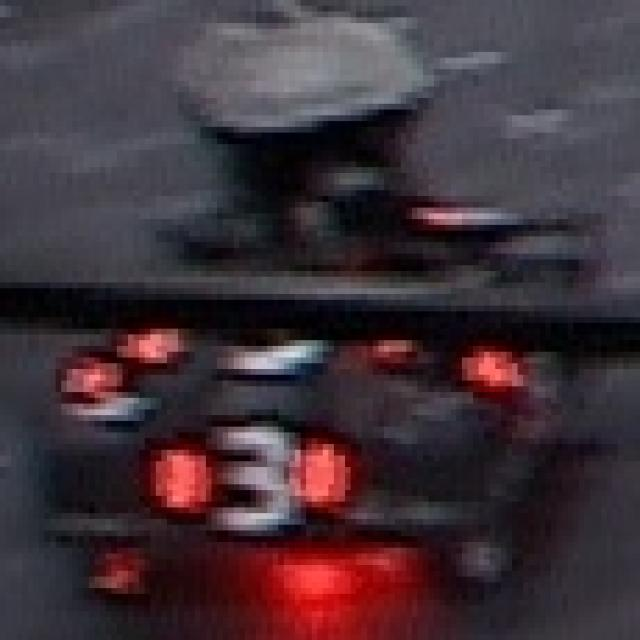R3: (150, 421, 351, 553)
